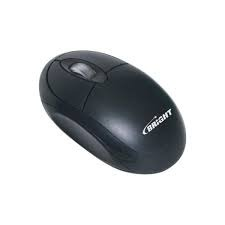mouse: (27, 47, 188, 177)
